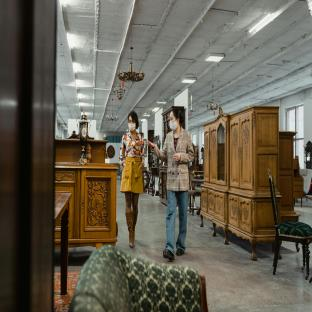Human: (147, 108, 194, 260), (119, 111, 145, 248)
